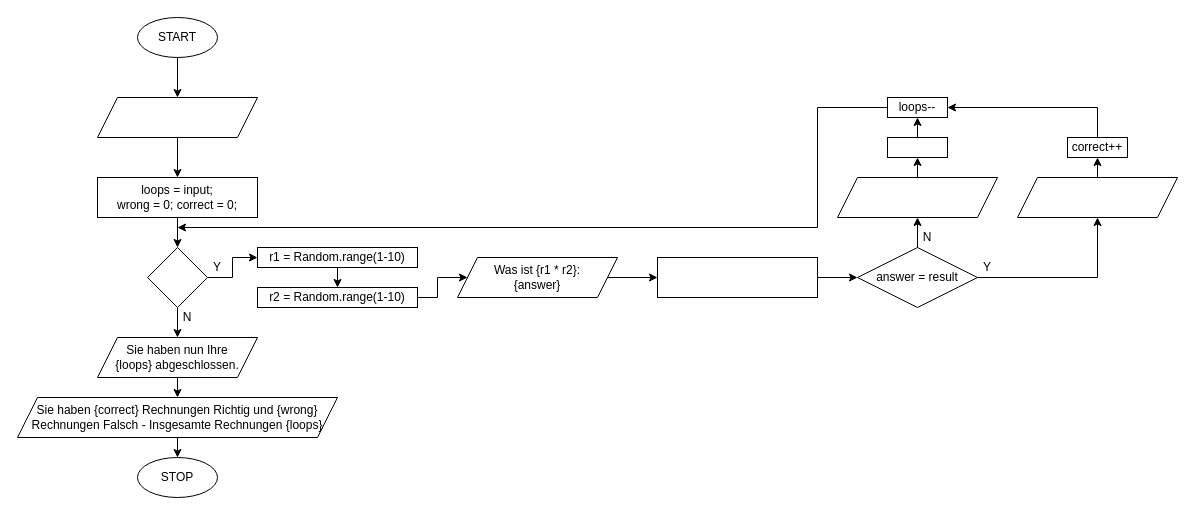
The diagram is 1195 pixels wide and 515 high, and some of its shapes have lost their labels. Here are the shapes that lost their labels. From the top down, the centre of each, then its label:
At (x=177, y=117): "Wie viele Durchläufe: {input}".
At (x=917, y=147): "wrong++".
At (x=917, y=197): "Falsch: Das richtige Ergebnis ist {result}!".
At (x=1097, y=197): "Ihr Ergebnis {answer} ist richtig!".
At (x=177, y=277): "loops > 0".
At (x=737, y=277): "result = r1 * r2".
